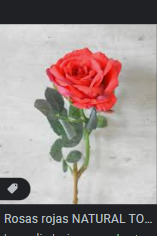RedRose: (45, 36, 123, 115)
